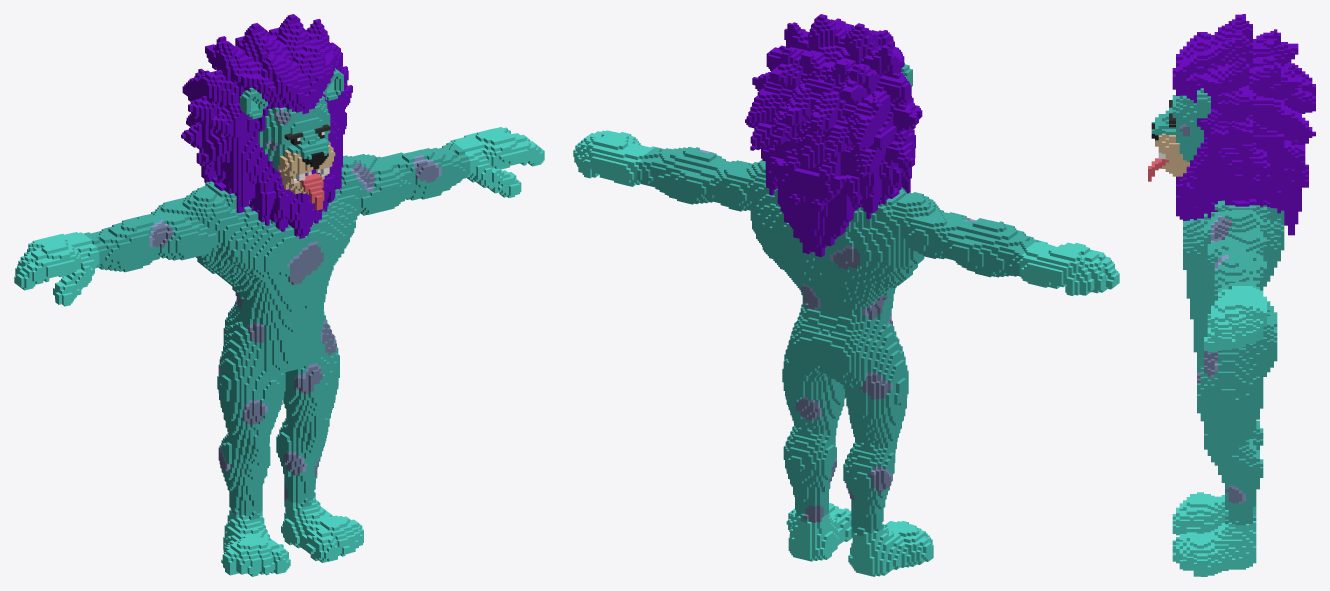
File: 811-DafqfhWA.glb
3 views of the same model, side by side, from view 1: azimuth 30°, elevation 25°; view 2: azimuth 150°, elevation 25°; view 3: azimuth 270°, elevation 25° (orthographic). The views are drawn at different scales.
Visible parts, largest first — view 1: tongue_out; view 2: tongue_out; view 3: tongue_out.
Boxes of the visible parts, box(x1,y1,x2,y2) form: tongue_out: box(14, 14, 544, 576); tongue_out: box(573, 14, 1119, 576); tongue_out: box(1148, 14, 1315, 576).
Bounding box in the file's own units: 17.2 × 16.5 × 4.8.
4 materials, 4 textured.
